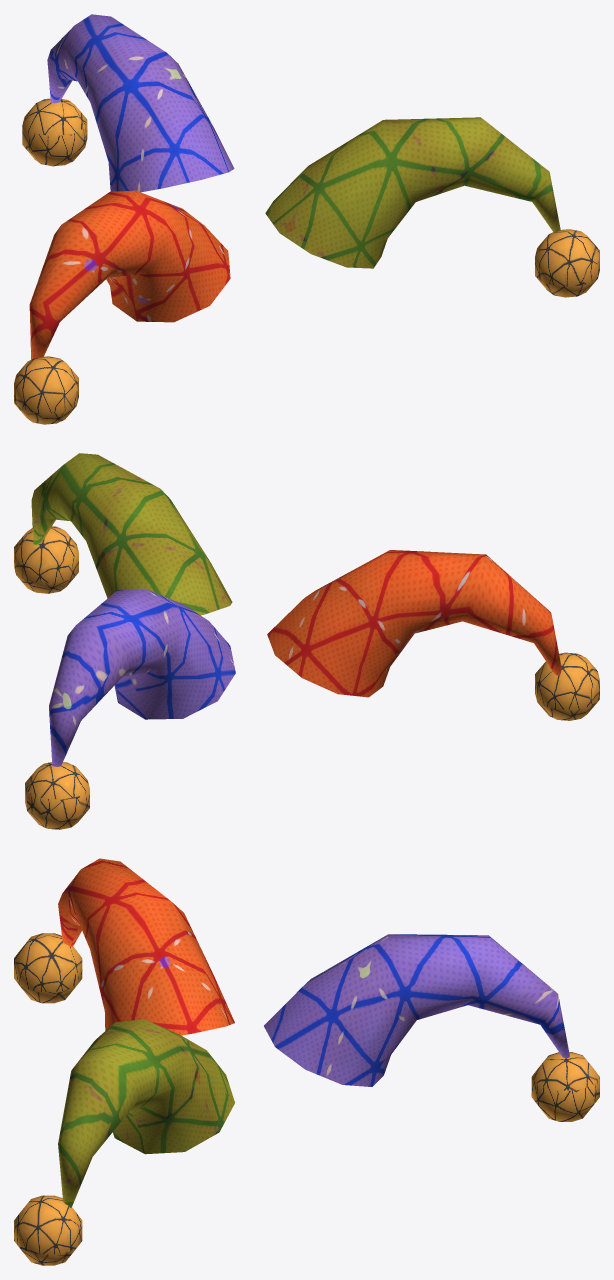
The model's file is HEAD_HARLEQUIN.fbx.
3 renders of one model, top to bottom at view 1: azimuth 30°, elevation 25°; view 2: azimuth 150°, elevation 25°; view 3: azimuth 270°, elevation 25°, orthographic. The views are drawn at different scales.
Parts seen in each view (by area): view 1: HEAD_HARLEQUIN; view 2: HEAD_HARLEQUIN; view 3: HEAD_HARLEQUIN.
Boxes of the visible parts, box(x1,y1,x2,y2) form: HEAD_HARLEQUIN: box(14, 14, 599, 424); HEAD_HARLEQUIN: box(14, 453, 599, 829); HEAD_HARLEQUIN: box(14, 858, 599, 1265).
Size of the model in its own units: 0.0439 by 0.0137 by 0.0375.
